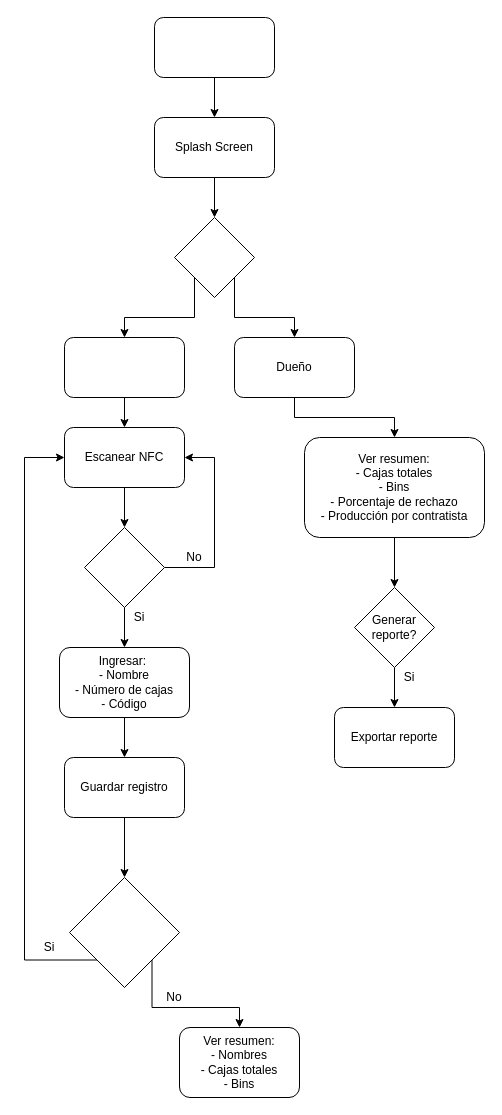
This 502x1115 diagram has some shape labels left out. Here are the shapes that lost their labels. From the top down, the box of each, then its label:
(154, 16, 274, 78): CherryBlock
(174, 216, 254, 298): Tipo de usuario
(64, 336, 184, 398): Planillero
(84, 526, 164, 608): NFC Válido?
(68, 876, 180, 988): Registrar otro cosechero?
